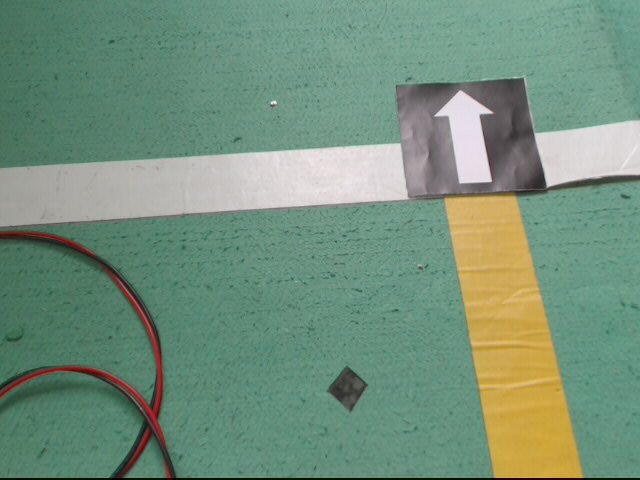straight: (396, 75, 542, 196)
